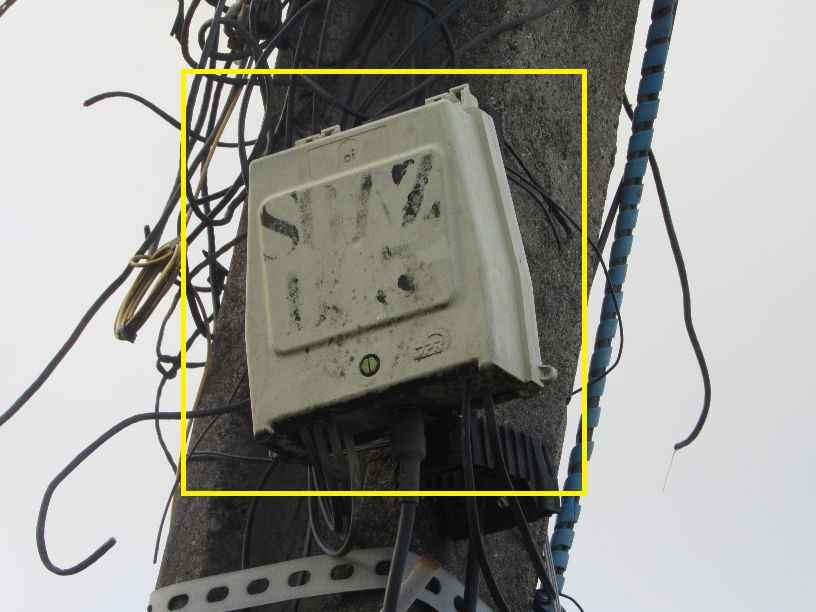caixa_derivacao: (219, 82, 546, 446)
